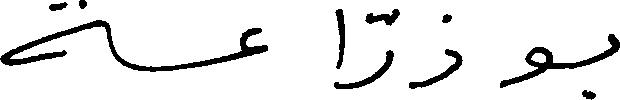X: (0, 0, 97, 70), (410, 9, 462, 93), (346, 5, 393, 93), (500, 42, 551, 92), (240, 23, 266, 62), (335, 4, 344, 93), (608, 29, 619, 61)
